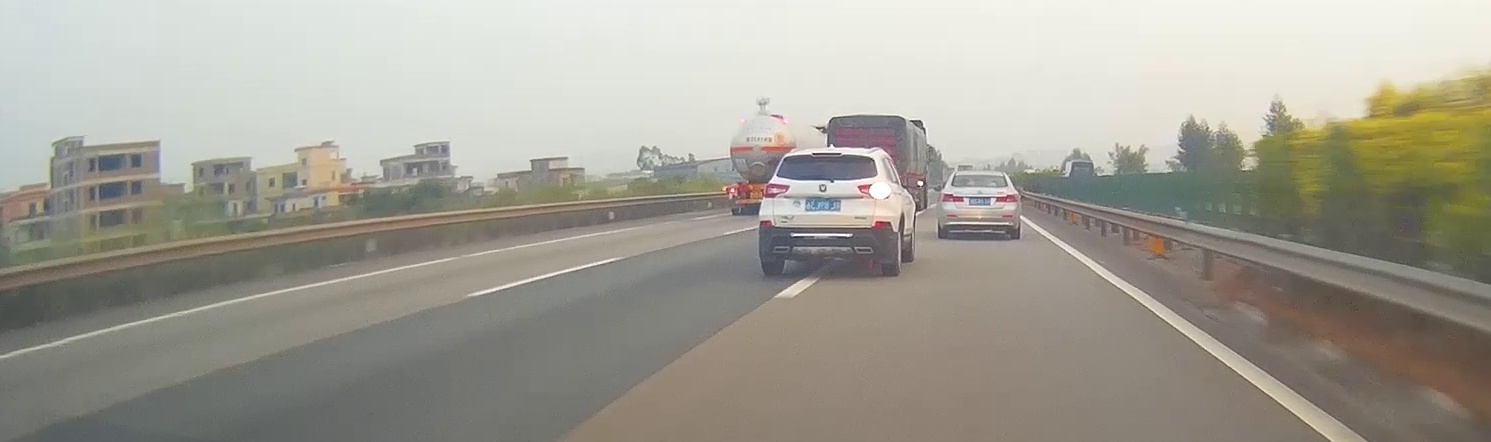L_light: (764, 183, 789, 198), (942, 193, 964, 203)
R_light: (858, 182, 892, 200), (996, 193, 1019, 203)
T_light: (812, 152, 843, 157), (974, 174, 984, 178)
day-no: (937, 170, 1021, 239)
day-right: (758, 147, 897, 276)
